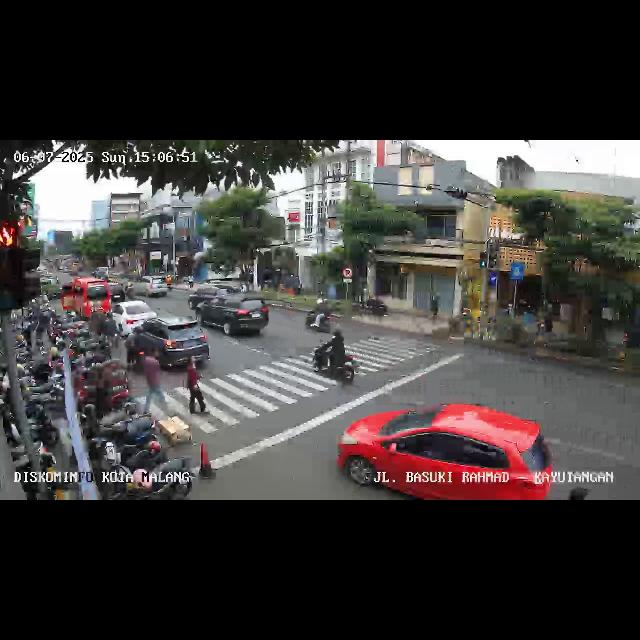car: (336, 402, 552, 500), (128, 316, 212, 372), (193, 289, 270, 339), (61, 276, 111, 320), (108, 300, 156, 336), (128, 276, 170, 298)
motorcycle: (310, 328, 362, 386), (301, 298, 335, 334), (124, 325, 146, 371), (99, 312, 119, 348)
person: (141, 346, 167, 414), (183, 356, 205, 416)
